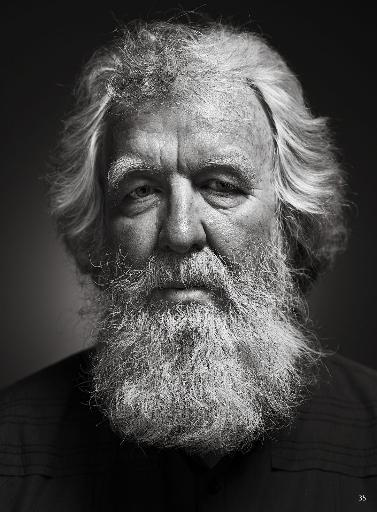left_eye: (201, 174, 249, 204)
left_lip_corner: (202, 283, 216, 301)
right_eye: (124, 182, 164, 207)
